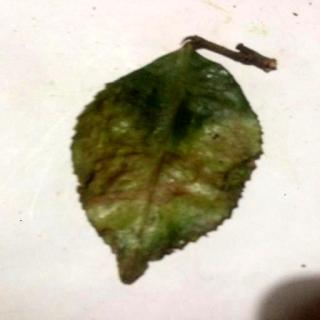Red Leaf Spot: (74, 41, 264, 285)
